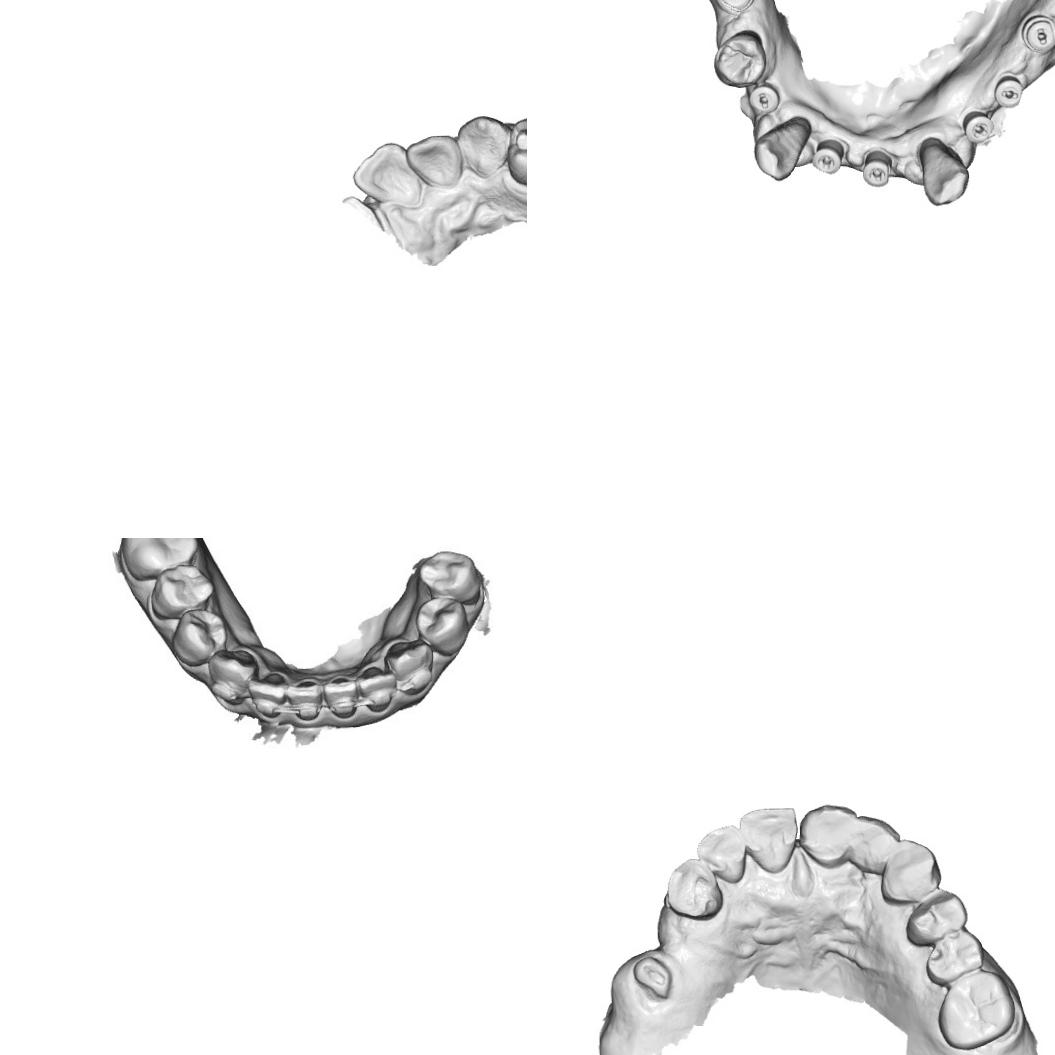canine: (878, 836, 942, 904), (664, 853, 726, 921), (752, 115, 814, 182), (918, 136, 972, 208), (455, 115, 512, 180), (210, 650, 262, 705), (390, 644, 436, 695)
implant_minus: (1017, 11, 1055, 53), (746, 81, 781, 115), (992, 74, 1025, 109), (715, 0, 756, 16)
implant_plus: (860, 147, 894, 189), (811, 137, 846, 176), (960, 110, 996, 146)
incisor: (352, 142, 422, 208), (738, 804, 799, 874), (798, 803, 854, 870), (404, 133, 464, 188), (696, 822, 748, 884), (850, 813, 902, 874), (358, 666, 395, 710), (250, 672, 284, 717), (290, 674, 322, 721), (324, 672, 356, 718)
inlay: (514, 123, 527, 172)
molar: (936, 968, 1016, 1051), (120, 538, 199, 582)
premolar: (923, 926, 985, 988), (904, 891, 970, 947), (414, 548, 478, 602), (150, 567, 216, 619), (711, 29, 768, 89), (174, 610, 225, 661), (418, 596, 464, 647)
